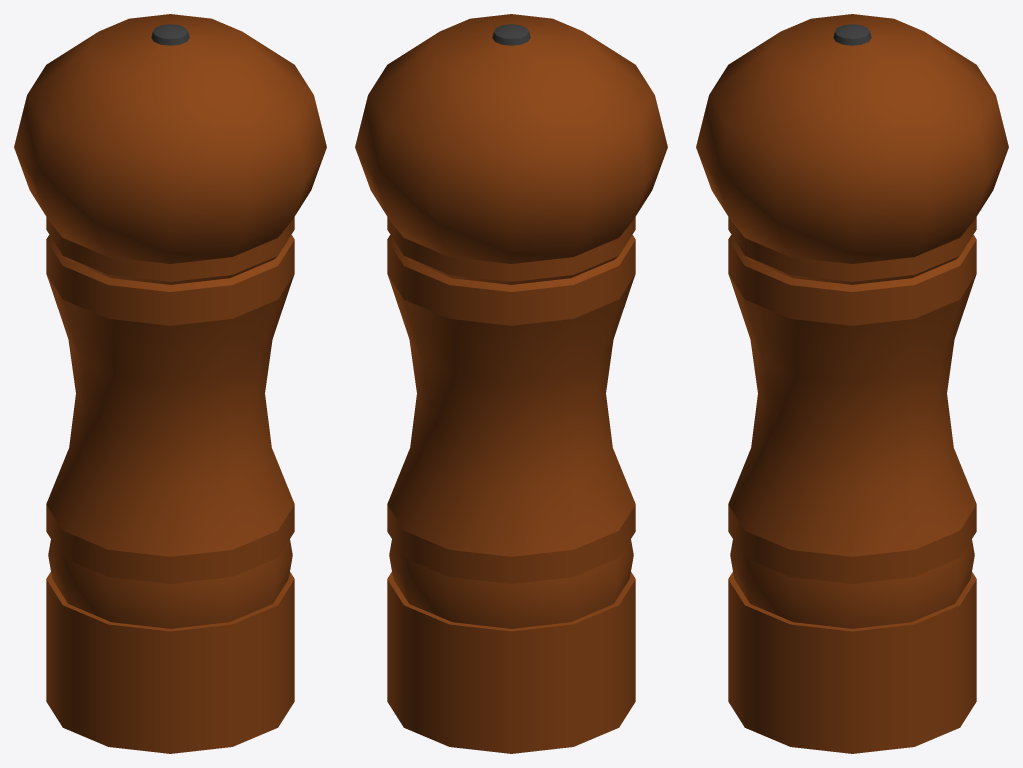
File: PepperGrinder.FBX
3 renders of one model, left to right at view 1: azimuth 30°, elevation 25°; view 2: azimuth 150°, elevation 25°; view 3: azimuth 270°, elevation 25°, orthographic.
Parts seen in each view (by area): view 1: PepperGrinder; view 2: PepperGrinder; view 3: PepperGrinder.
Part boxes in pixels (bbox=[...]): PepperGrinder: bbox=[14, 14, 326, 753]; PepperGrinder: bbox=[355, 14, 667, 753]; PepperGrinder: bbox=[696, 14, 1008, 753].
Bounding box in the file's own units: 32.59 × 77.52 × 32.59.
